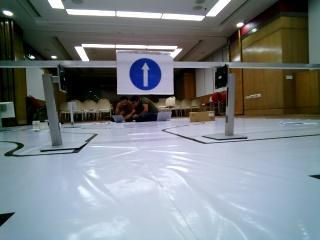straight: (118, 52, 177, 96)
